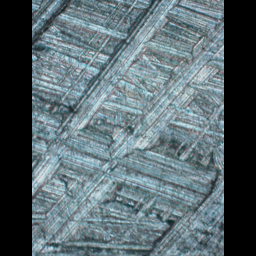d: (35, 6, 224, 252), (142, 170, 223, 255)
